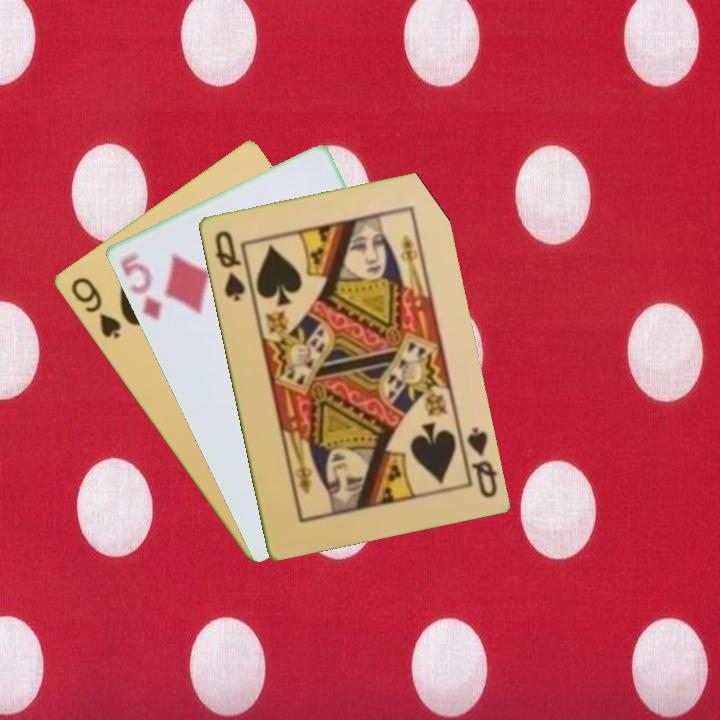5d: (116, 248, 164, 324)
9s: (66, 273, 124, 342)
Qs: (211, 226, 248, 304), (463, 423, 500, 501)
